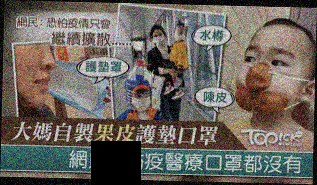with_mask: (236, 42, 305, 117), (128, 90, 152, 111), (173, 27, 188, 42), (152, 31, 166, 47)
without_mask: (13, 41, 56, 108)
